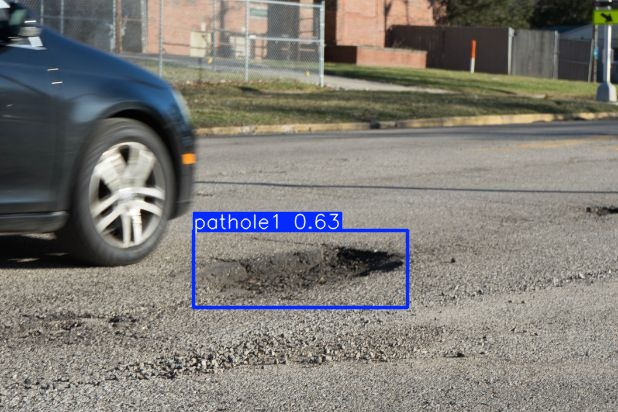pothole: (189, 238, 408, 303)
